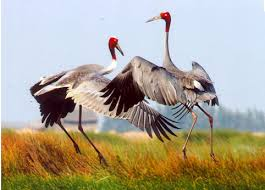seu_dau_do: (98, 10, 220, 158), (29, 36, 176, 158)
